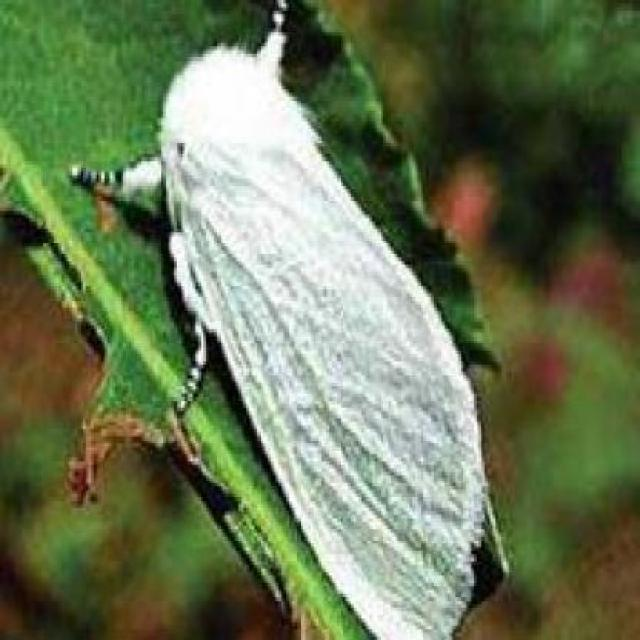stem-borer: (129, 35, 491, 640)
